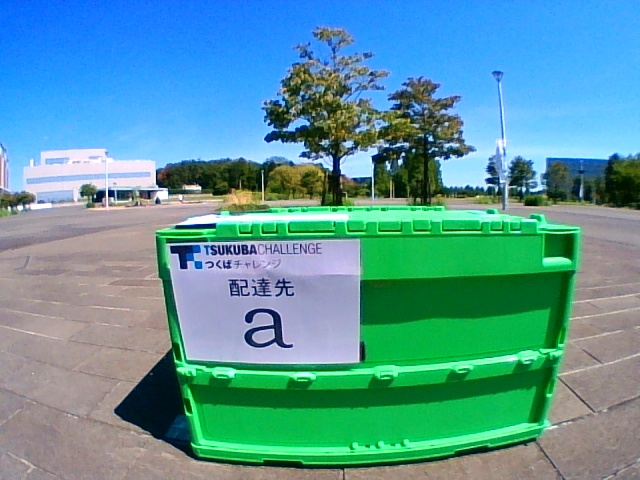green_box: (156, 205, 580, 463)
tag_a: (188, 250, 358, 361)
